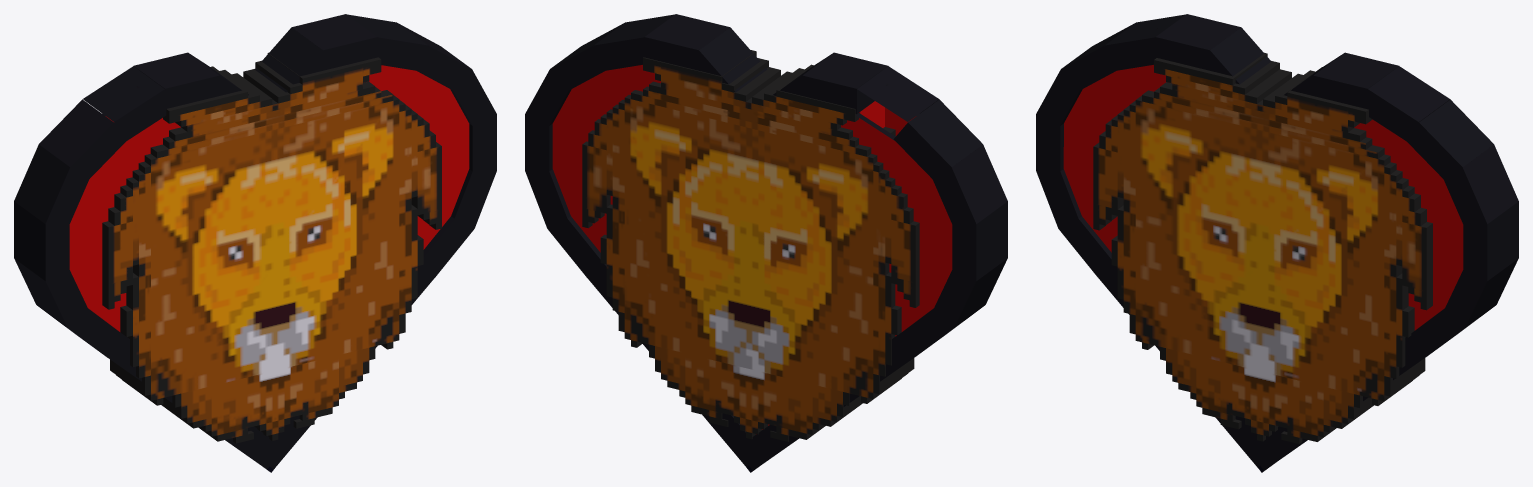
Rendered from lion.fbx.
3 views of the same model, side by side, from view 1: azimuth 30°, elevation 25°; view 2: azimuth 150°, elevation 25°; view 3: azimuth 330°, elevation 25° (orthographic).
Visible parts, largest first — view 1: lion; view 2: lion; view 3: lion.
Boxes of the visible parts, x1=… form: lion: x1=14, y1=14, x2=496, y2=472; lion: x1=525, y1=14, x2=1007, y2=472; lion: x1=1036, y1=14, x2=1518, y2=472.
Size of the model in its own units: 745 by 647 by 100.
1 material, 1 textured.
